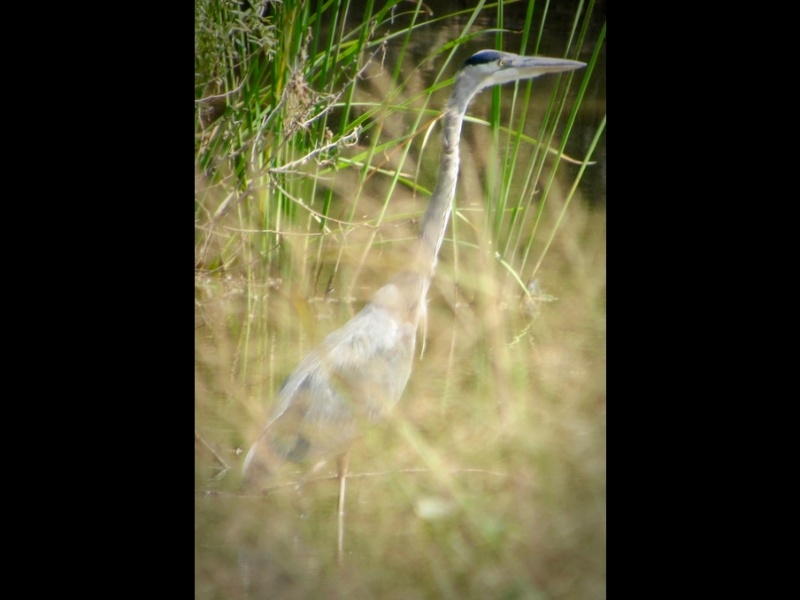heron: (236, 46, 590, 554)
